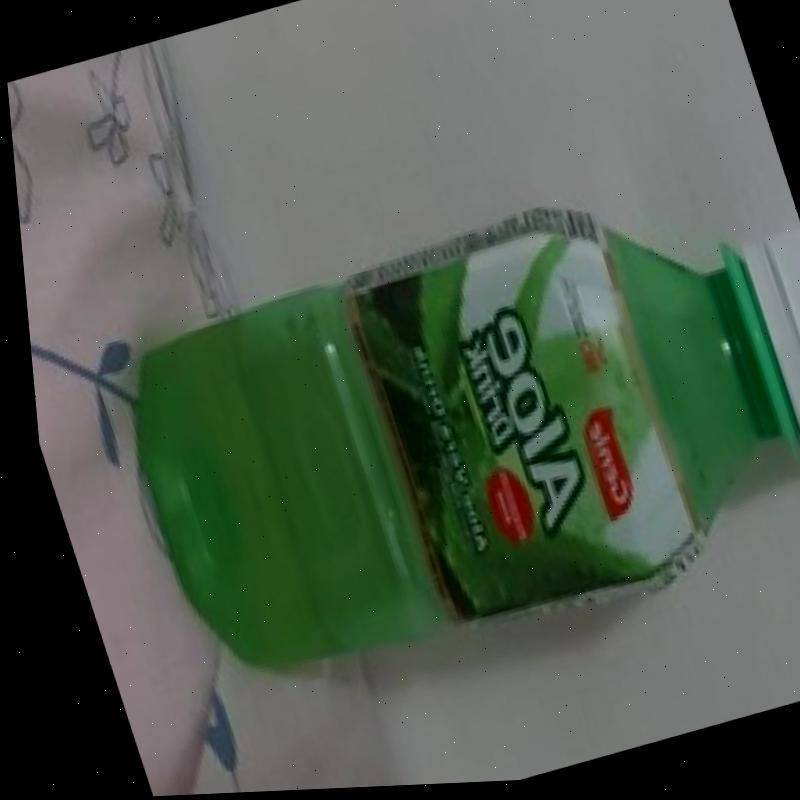botella: (66, 145, 800, 709)
